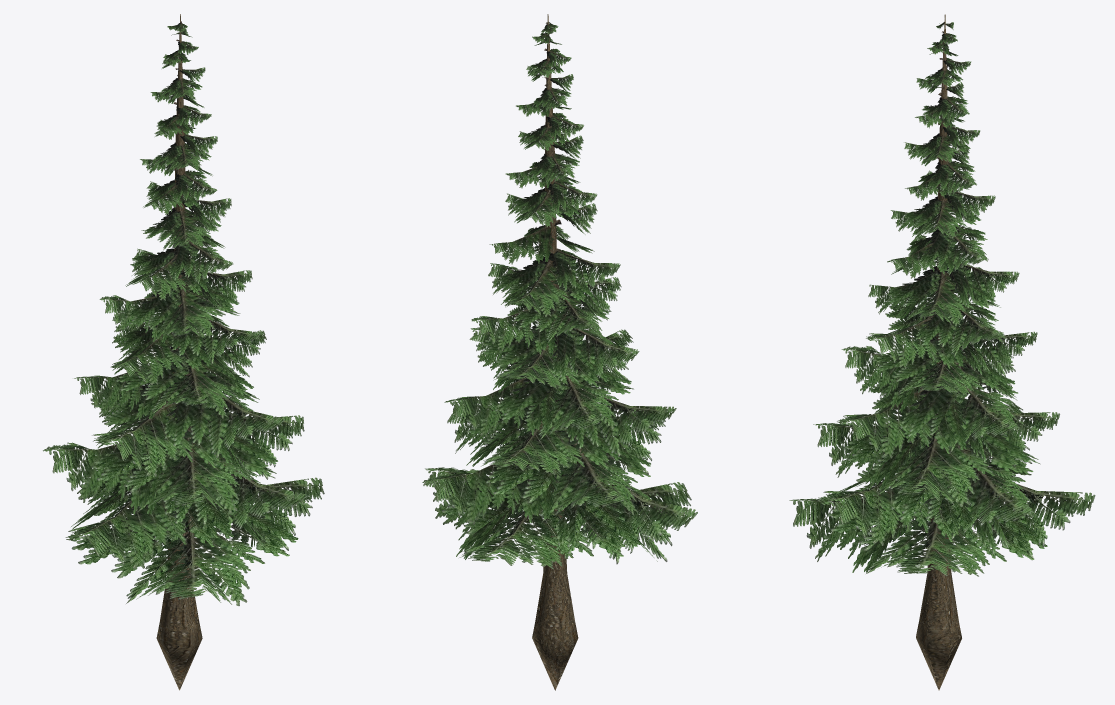
Rendered from Tree - Spruce A-BfPyEBZI.glb.
3 renders of one model, left to right at view 1: azimuth 30°, elevation 25°; view 2: azimuth 150°, elevation 25°; view 3: azimuth 270°, elevation 25°, orthographic.
Visible parts, largest first — view 1: RHE_SpruceA_Leaves, RHE_SpruceA_Trunk; view 2: RHE_SpruceA_Leaves, RHE_SpruceA_Trunk; view 3: RHE_SpruceA_Leaves, RHE_SpruceA_Trunk.
Part boxes in pixels (<box>): RHE_SpruceA_Leaves: <box>43,21,324,605</box>; RHE_SpruceA_Trunk: <box>156,14,202,690</box>; RHE_SpruceA_Leaves: <box>422,22,697,568</box>; RHE_SpruceA_Trunk: <box>532,14,578,690</box>; RHE_SpruceA_Leaves: <box>789,22,1095,576</box>; RHE_SpruceA_Trunk: <box>916,14,961,690</box>.
Bounding box in the file's own units: 22.04 × 50.71 × 22.22.
2 materials, 2 textured.
